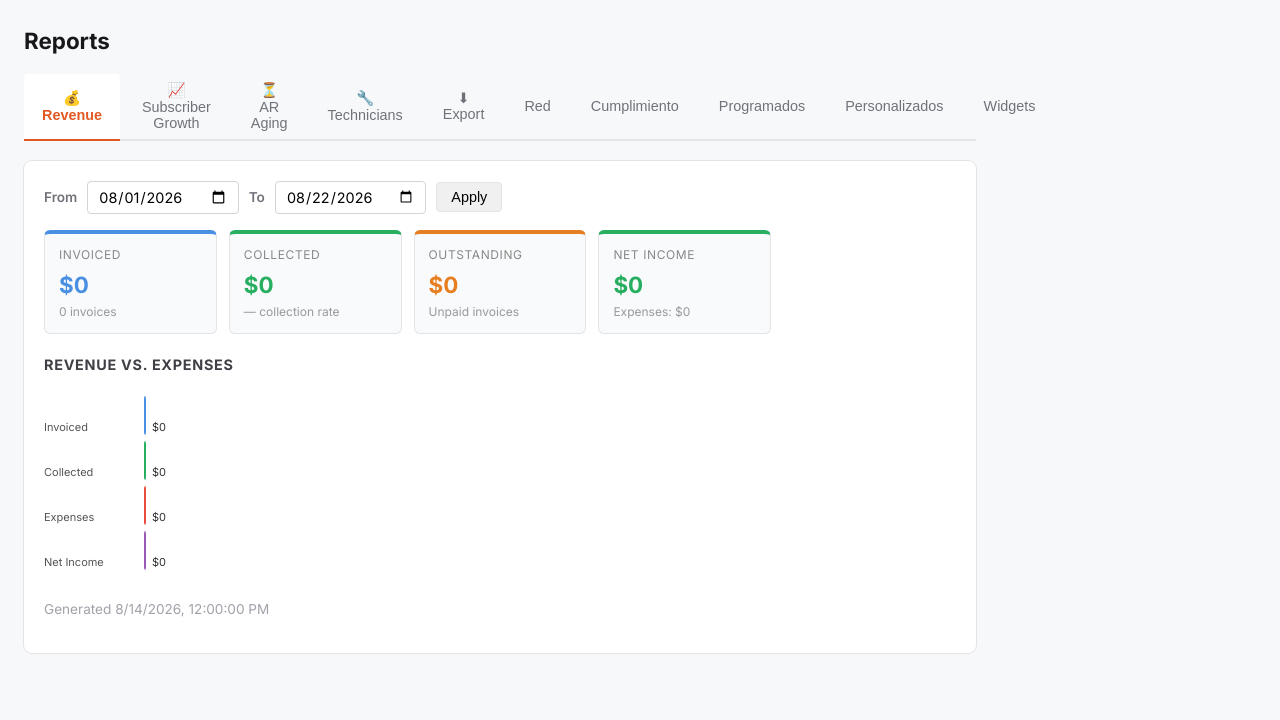
Reports compliance tab — operational connection logging › uses the localized Spanish safety disclaimer when the backend omits one
Click the button "Cumplimiento" at (635, 106), box x1=573 y1=74 x2=697 y2=139
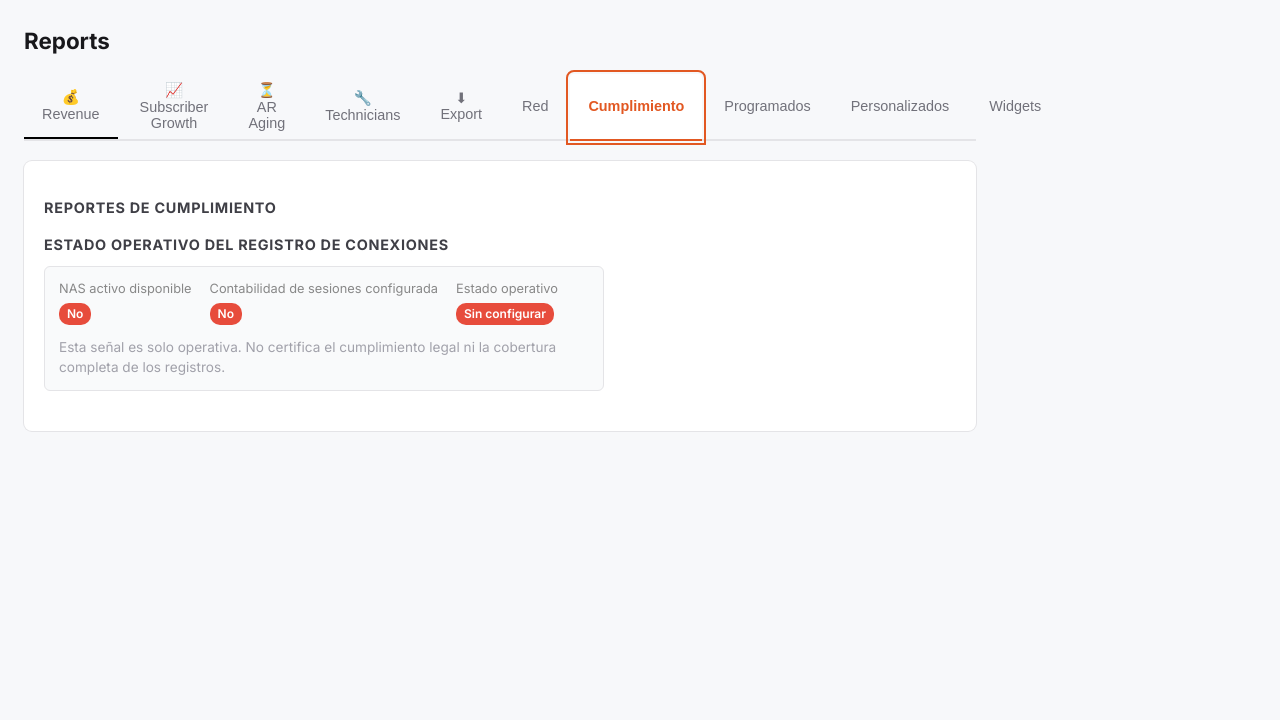
Expected: the heading "Estado operativo del registro de conexiones" is shown, x1=44 y1=236 x2=449 y2=253
Expected: the text named "NAS activo disponible" reads "No", x1=67 y1=306 x2=83 y2=321
Expected: the text named "Contabilidad de sesiones configurada" reads "No", x1=218 y1=306 x2=234 y2=321
